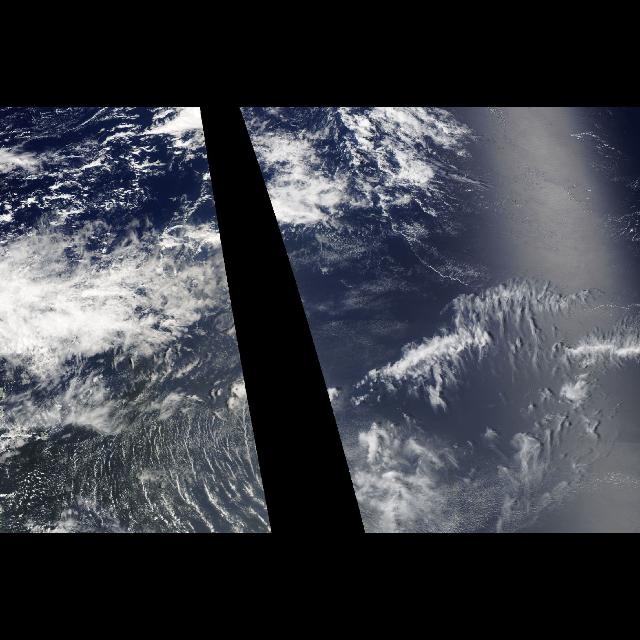Sugar: (42, 414, 272, 526)
